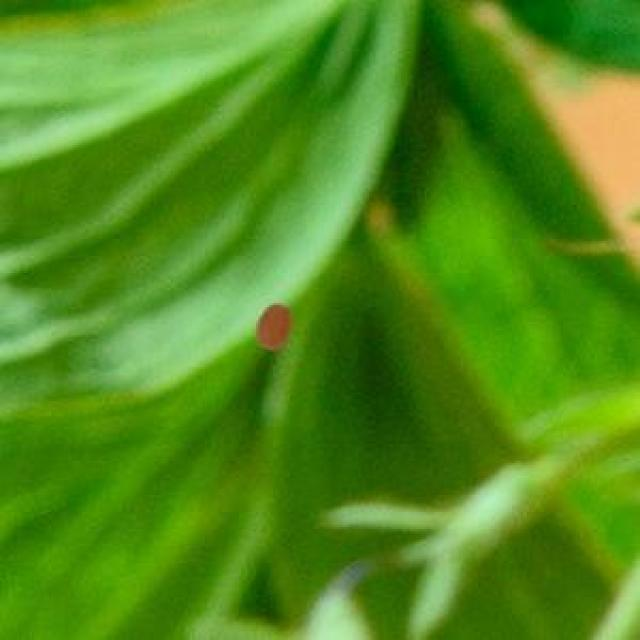Bactidol: (248, 292, 304, 363)
